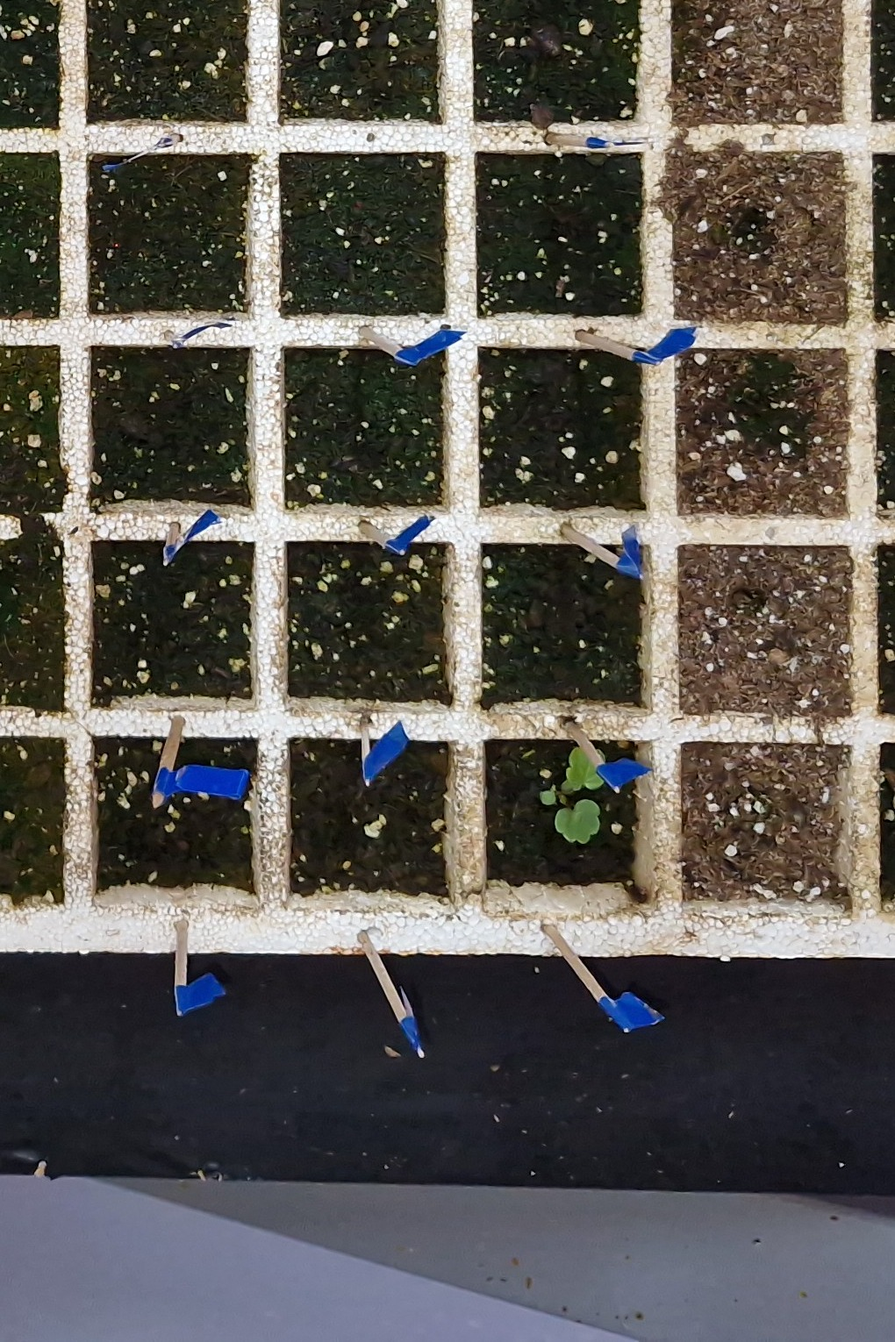Folha: (556, 799, 599, 842), (566, 748, 604, 790), (540, 791, 556, 804), (562, 781, 572, 794)
Germinacao: (540, 748, 604, 843)
